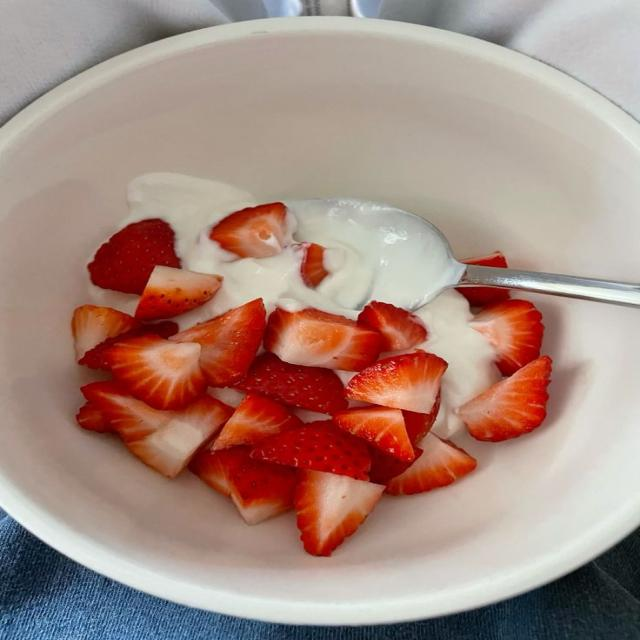strawberry sliced: (81, 381, 233, 476), (127, 395, 232, 477), (170, 299, 266, 386), (190, 447, 296, 525), (458, 357, 552, 441), (294, 470, 384, 555), (105, 336, 206, 409), (265, 308, 380, 371), (252, 421, 370, 480), (88, 219, 180, 294), (236, 354, 347, 413), (346, 351, 446, 413), (80, 381, 172, 442), (470, 300, 543, 375), (387, 434, 476, 495), (79, 321, 179, 371), (212, 394, 301, 450), (135, 266, 222, 320), (334, 407, 414, 461), (210, 203, 286, 257), (72, 305, 140, 360), (359, 301, 426, 351), (402, 393, 440, 459), (189, 449, 234, 496), (369, 447, 422, 484), (403, 393, 440, 445), (300, 243, 328, 288), (76, 402, 113, 433), (457, 287, 509, 305)
